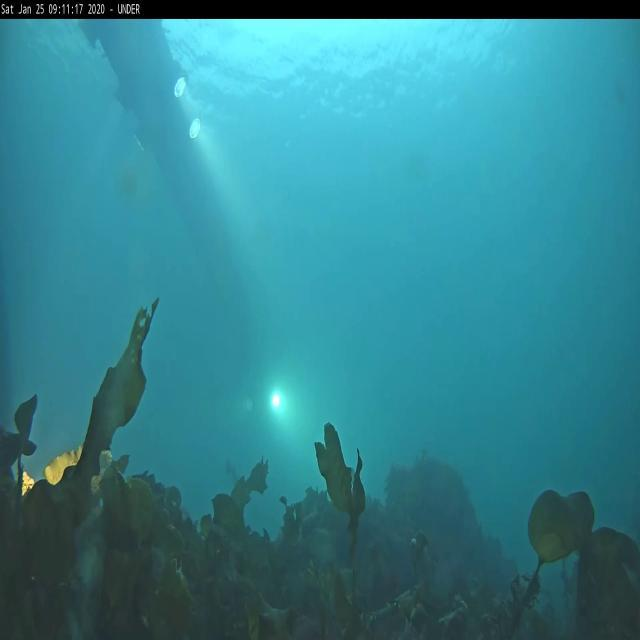fish: (134, 462, 162, 492), (228, 460, 240, 492)
